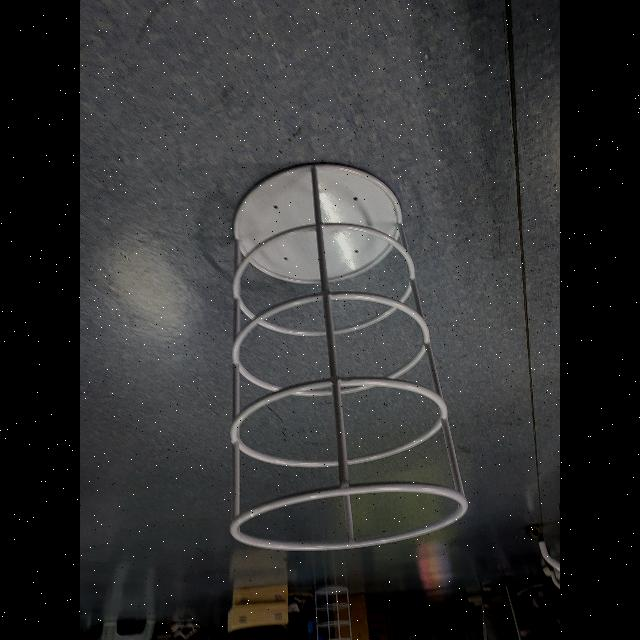S: (208, 156, 474, 556)
